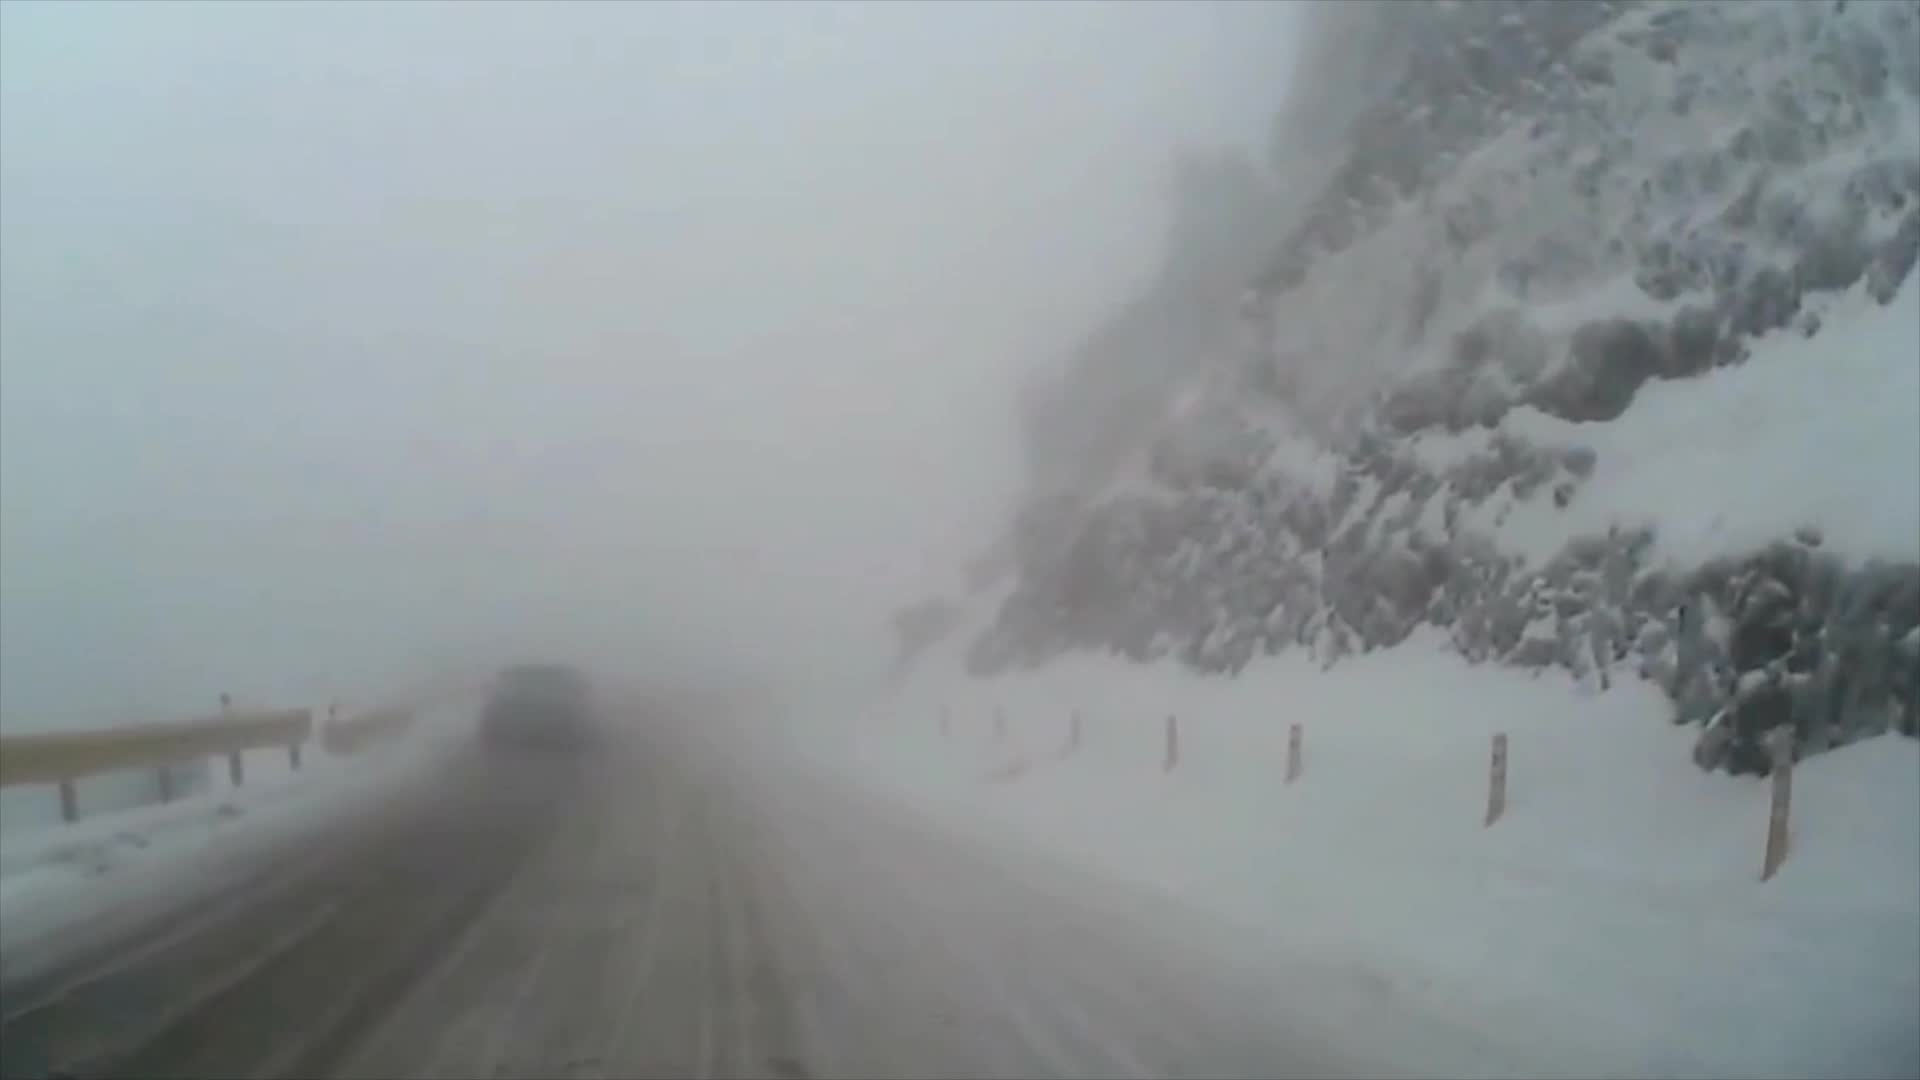vehicle: (479, 662, 591, 753)
